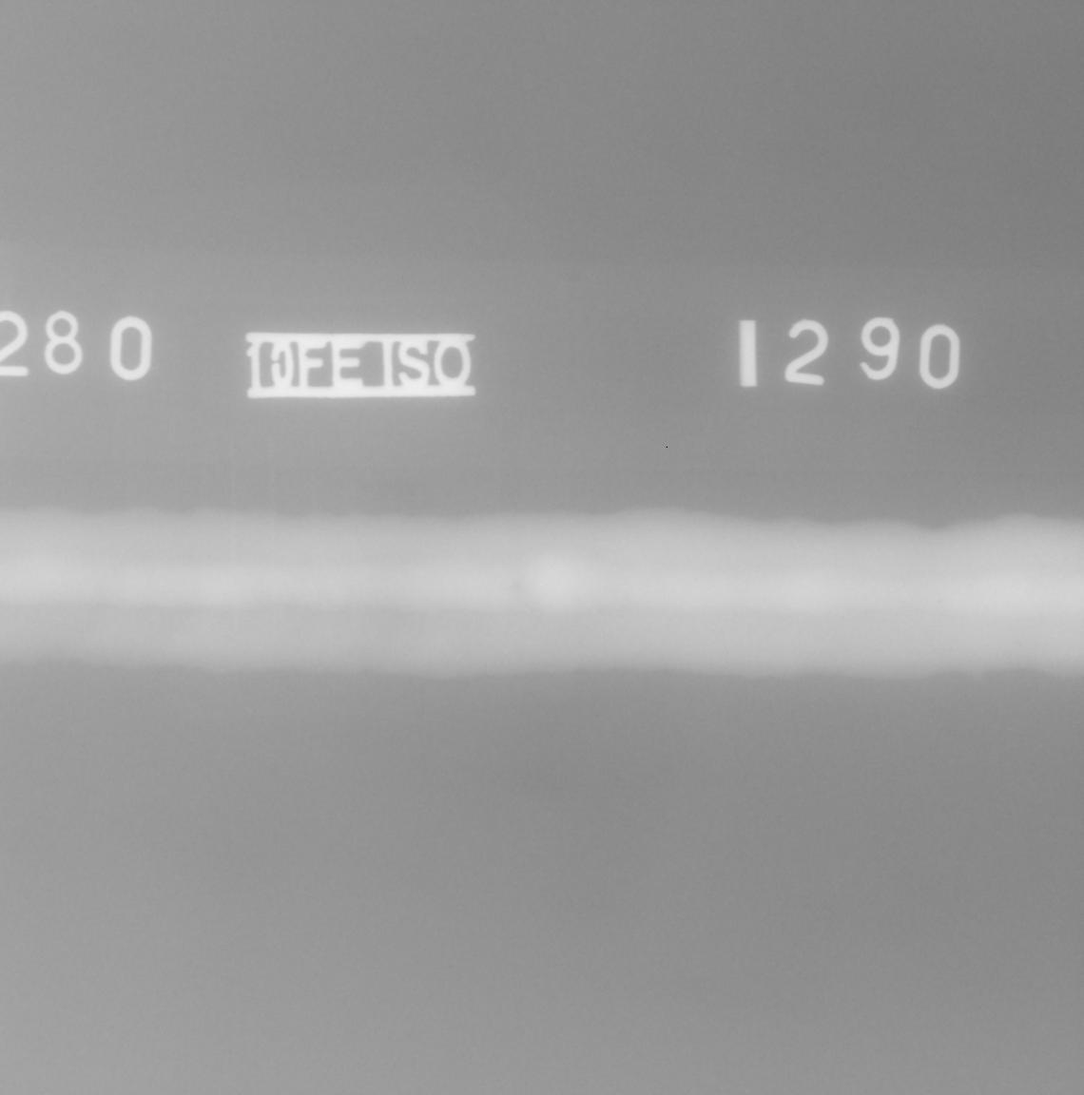Inclusion: (514, 582, 520, 589)
Pore/Porosity: (938, 600, 943, 604)
